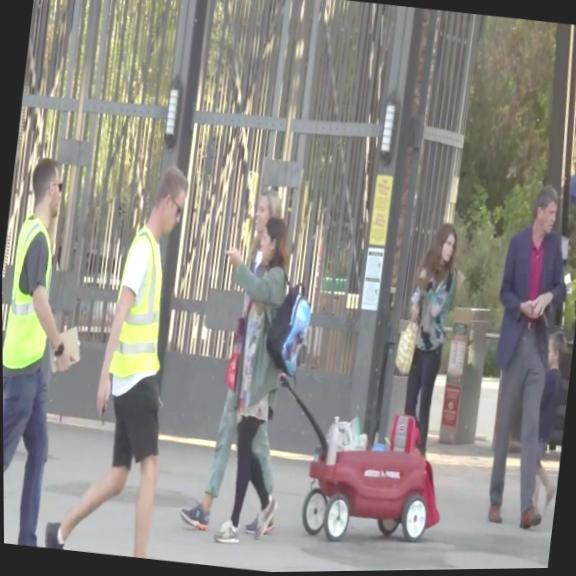safety_vest: (108, 223, 177, 377), (2, 209, 62, 372)
